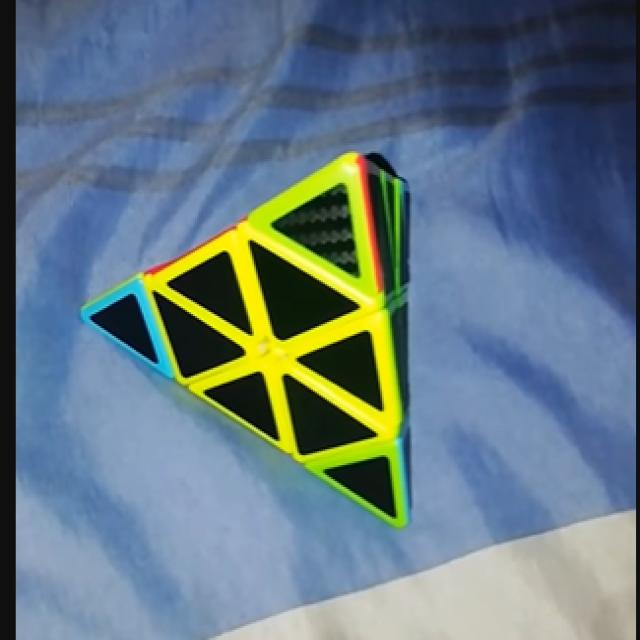Pyraminx: (85, 155, 410, 527)
